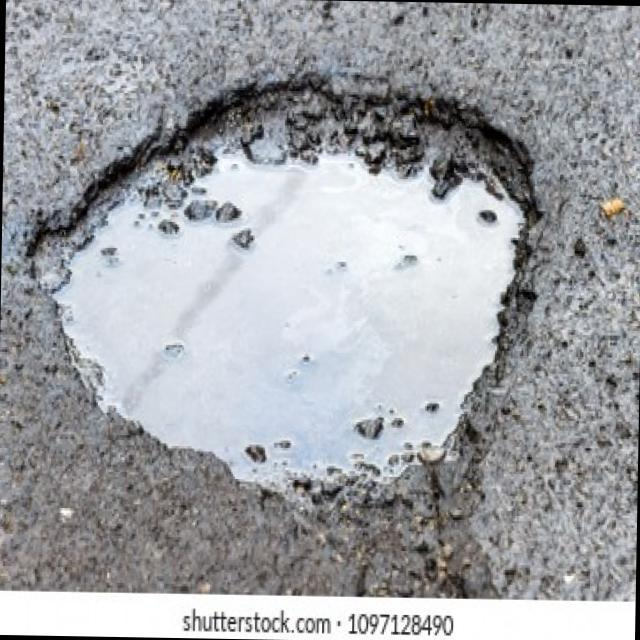Pothole: (16, 64, 547, 504)
